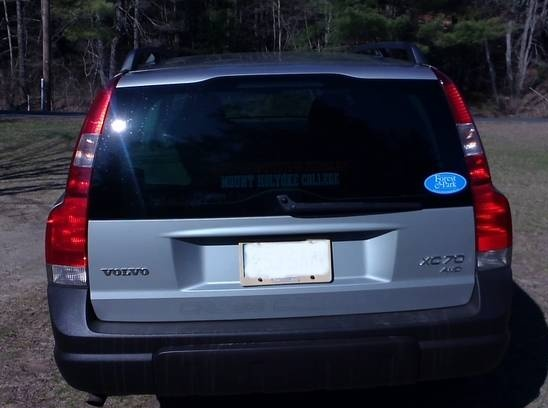volvo: (25, 41, 531, 408)
